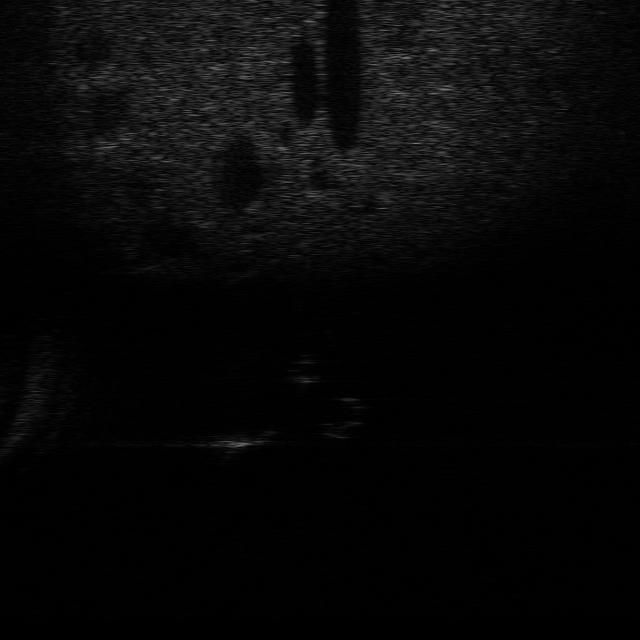ball: (271, 352, 335, 396)
square cage: (195, 424, 285, 464)
tyre: (314, 390, 376, 440)
